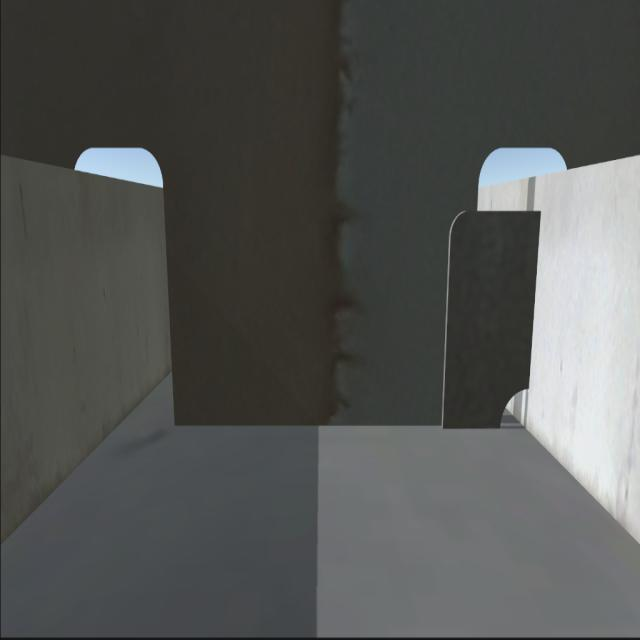fillet_hole: (496, 378, 536, 434)
fillet_yong_jeop_jang: (176, 414, 500, 433)
longi_yong_jeop_jang: (529, 212, 543, 387)
plate_CP05: (452, 214, 539, 431)
